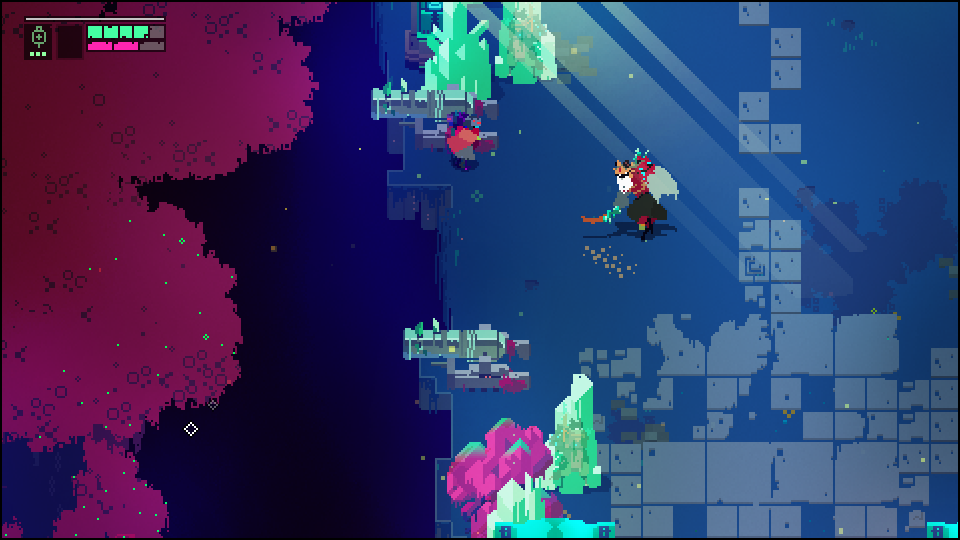hanged_man: (574, 147, 686, 243)
player: (447, 115, 484, 175)
